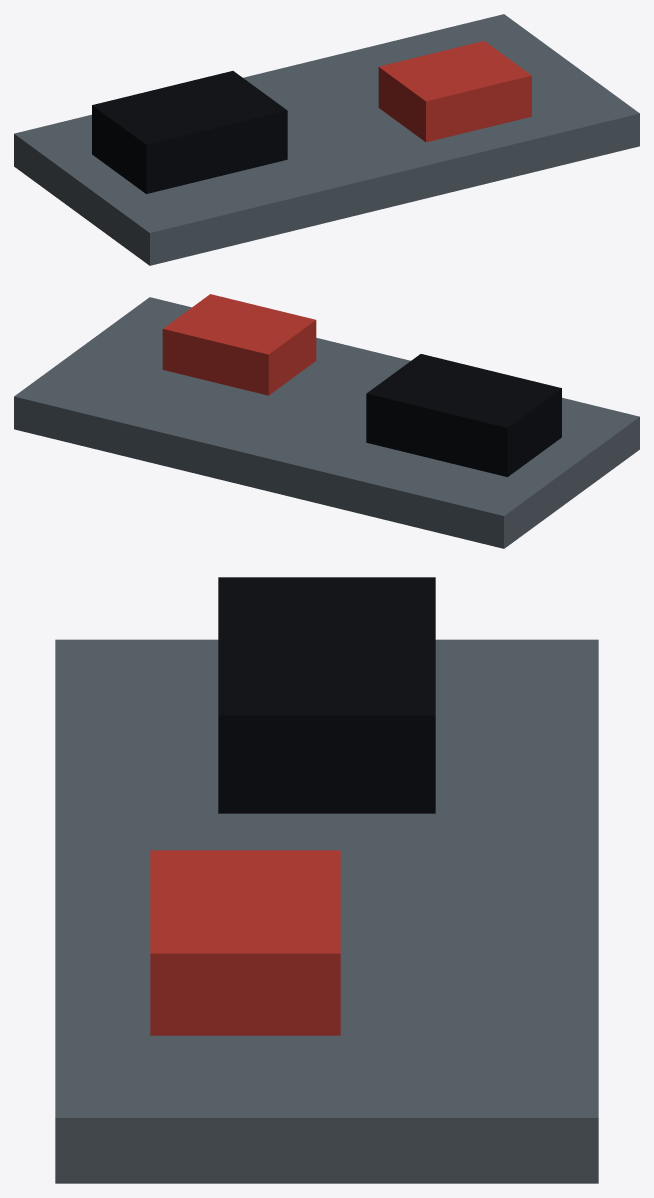
File: prop.evidence_table.glb
3 views of the same model, one above another, from view 1: azimuth 30°, elevation 25°; view 2: azimuth 150°, elevation 25°; view 3: azimuth 270°, elevation 25° (orthographic). The views are drawn at different scales.
Parts seen in each view (by area): view 1: table_top, case_a, case_b; view 2: table_top, case_a, case_b; view 3: table_top, case_a, case_b.
Boxes of the visible parts, <box> form: table_top: <box>14,14,639,265</box>; case_a: <box>92,71,287,193</box>; case_b: <box>378,41,531,142</box>; table_top: <box>14,297,639,548</box>; case_a: <box>366,354,561,476</box>; case_b: <box>162,294,316,395</box>; table_top: <box>55,639,598,1183</box>; case_a: <box>218,577,435,813</box>; case_b: <box>150,850,340,1035</box>.
Size of the model in its own units: 2.5 by 0.4 by 1.2.
